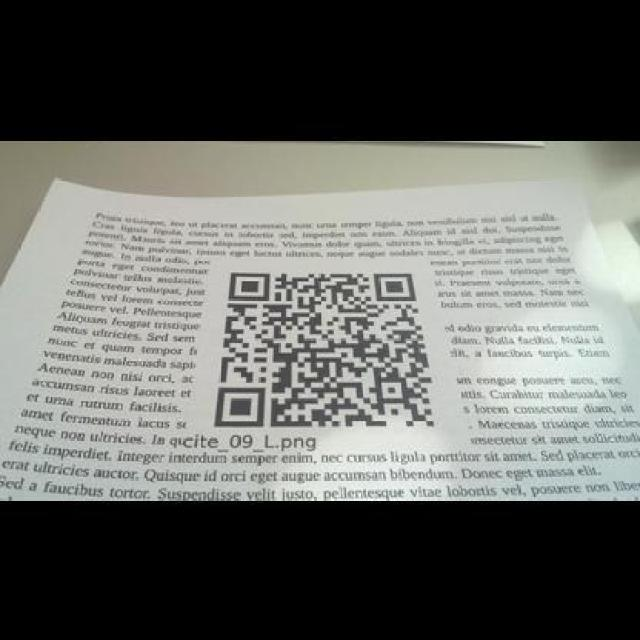QRCode: (209, 264, 440, 428)
